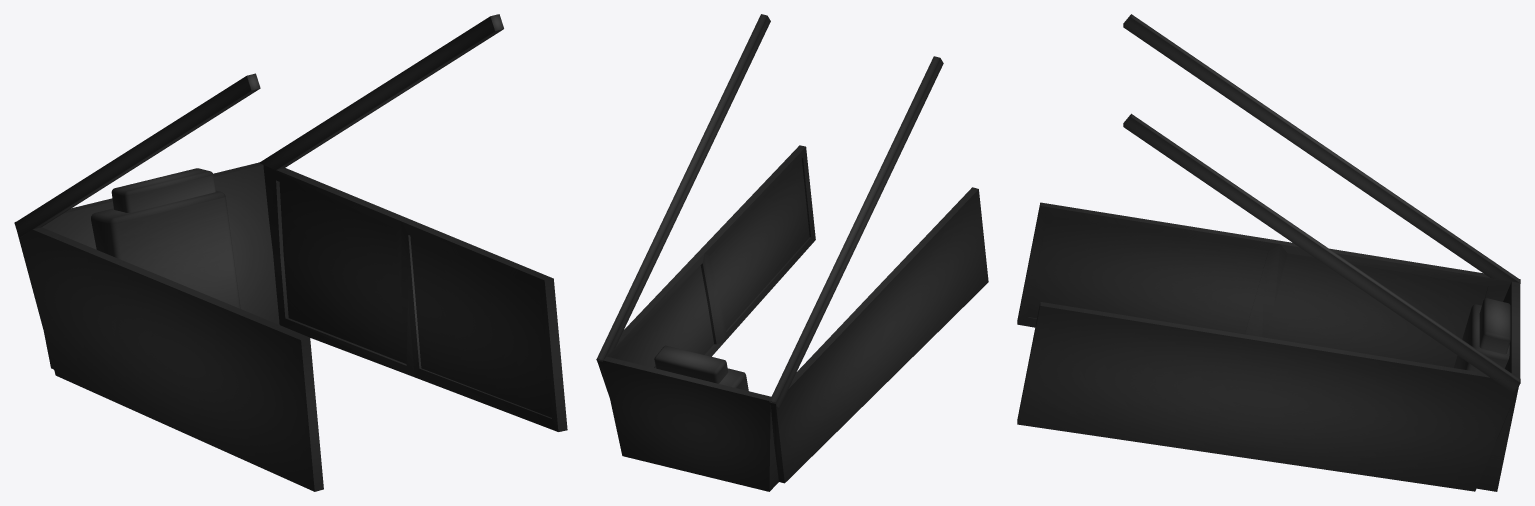
The model's file is cabina.fbx.
3 views of the same model, side by side, from view 1: azimuth 30°, elevation 25°; view 2: azimuth 150°, elevation 25°; view 3: azimuth 270°, elevation 25° (orthographic). The views are drawn at different scales.
Parts seen in each view (by area): view 1: cabina; view 2: cabina; view 3: cabina.
Boxes of the visible parts, x1,y1,x2,y2 form: cabina: (14,14,567,491); cabina: (596,14,988,491); cabina: (1017,14,1520,491).
Bounding box in the file's own units: 3.6 × 6.24 × 7.41.
